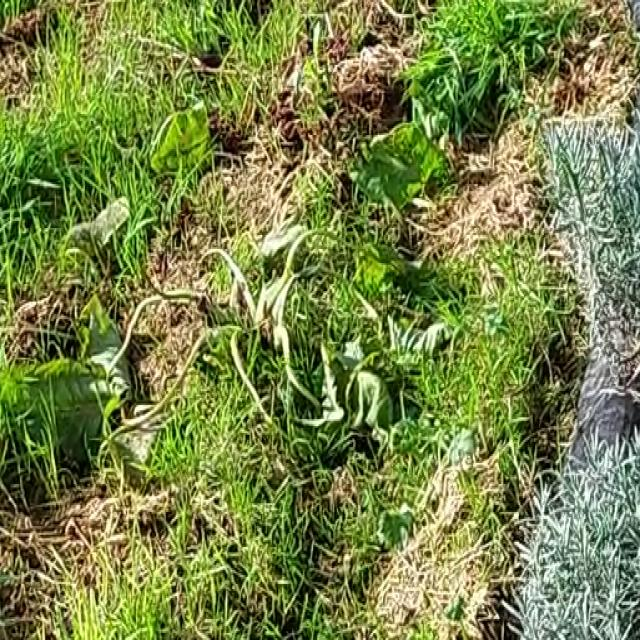organic waste: (46, 152, 532, 560)
